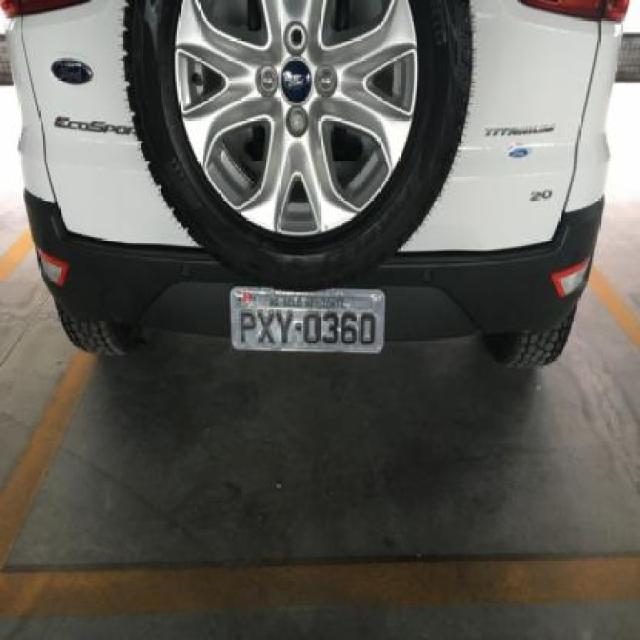old_plate: (227, 284, 387, 356)
